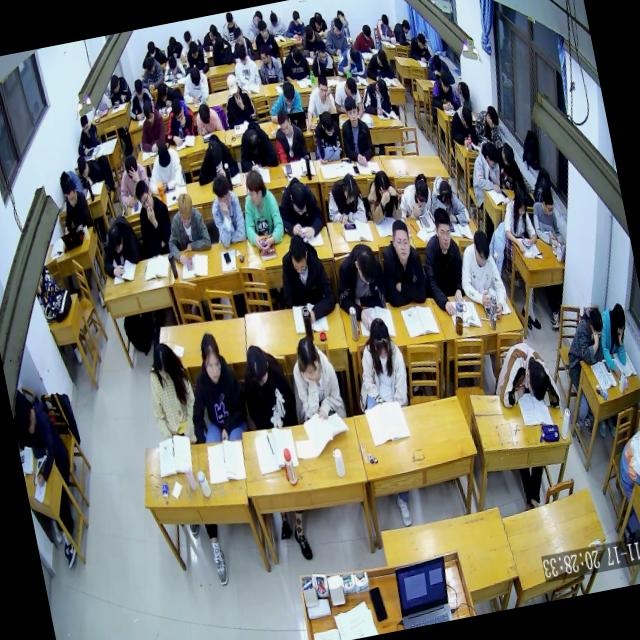bow: (487, 334, 563, 420), (94, 212, 148, 282), (274, 172, 326, 242), (190, 130, 241, 187), (232, 116, 280, 174), (426, 172, 470, 232), (396, 175, 436, 221), (334, 44, 368, 84), (190, 98, 223, 137), (363, 46, 396, 84), (76, 152, 108, 189), (425, 52, 456, 88), (150, 77, 177, 116), (208, 32, 235, 68)
down: (522, 356, 553, 404), (294, 333, 322, 384), (243, 342, 272, 390), (351, 242, 381, 288), (367, 316, 394, 361), (286, 234, 312, 276), (12, 398, 38, 436), (150, 342, 173, 384), (210, 173, 233, 211), (287, 180, 310, 217), (175, 192, 197, 230), (471, 229, 492, 267), (105, 223, 126, 256), (412, 175, 432, 208), (340, 172, 360, 204), (274, 107, 294, 138), (372, 169, 392, 200), (587, 307, 606, 339), (204, 137, 224, 167), (436, 177, 454, 210), (512, 185, 530, 218), (318, 108, 337, 139), (154, 139, 173, 169), (482, 140, 501, 170), (244, 125, 262, 156), (499, 140, 518, 168), (280, 79, 298, 108), (122, 152, 140, 179), (64, 178, 80, 208), (540, 190, 556, 218), (140, 98, 156, 125), (484, 105, 500, 132), (170, 96, 186, 122), (459, 105, 475, 130), (438, 68, 453, 94), (196, 102, 212, 125), (226, 73, 240, 99), (344, 76, 359, 100), (188, 66, 204, 88), (76, 154, 90, 178), (132, 78, 146, 102), (374, 78, 389, 100), (234, 42, 248, 65), (155, 82, 169, 104), (256, 17, 270, 39), (348, 46, 362, 68), (458, 80, 472, 102), (108, 73, 122, 94), (186, 39, 200, 60), (315, 38, 327, 62), (431, 54, 444, 76), (212, 34, 226, 54), (374, 48, 388, 68), (232, 26, 245, 47), (303, 22, 316, 43), (167, 56, 180, 76), (251, 8, 264, 28), (144, 53, 156, 74), (79, 115, 91, 135), (313, 10, 325, 30), (332, 16, 344, 36), (361, 22, 373, 42), (290, 46, 302, 66), (182, 29, 194, 48), (207, 24, 219, 42), (268, 11, 280, 29), (416, 32, 427, 51), (166, 34, 178, 51), (146, 38, 157, 56), (291, 10, 302, 28), (401, 18, 412, 36), (380, 12, 391, 30), (224, 12, 234, 28)
lookup: (198, 331, 225, 385), (388, 218, 414, 263), (431, 204, 455, 250), (133, 178, 155, 212), (343, 95, 360, 125), (316, 73, 331, 101)
sit: (176, 327, 252, 448), (140, 338, 203, 450), (413, 204, 472, 318), (272, 228, 338, 326), (234, 337, 300, 433), (326, 240, 392, 334), (350, 314, 412, 414), (12, 392, 74, 490), (285, 328, 346, 424), (370, 215, 430, 312), (452, 226, 510, 322), (234, 166, 288, 256), (159, 188, 214, 266), (130, 176, 177, 260), (558, 304, 612, 372), (205, 170, 250, 250), (595, 302, 637, 382), (334, 91, 376, 169), (496, 184, 540, 256), (321, 172, 368, 230), (141, 137, 187, 195), (464, 138, 506, 200), (54, 176, 96, 237), (362, 168, 404, 228), (268, 104, 309, 164), (218, 70, 258, 130), (112, 152, 154, 209), (528, 187, 566, 250), (299, 72, 339, 130), (308, 106, 346, 164), (611, 422, 640, 498), (133, 97, 170, 155), (159, 95, 199, 148), (264, 80, 306, 126), (442, 286, 482, 332), (494, 140, 526, 194), (426, 67, 460, 116), (330, 74, 364, 122), (445, 104, 480, 150), (472, 104, 505, 152), (122, 75, 156, 121), (230, 41, 262, 89), (306, 34, 338, 80), (358, 77, 393, 117), (178, 65, 212, 106), (255, 42, 285, 88), (252, 17, 282, 62), (71, 111, 101, 155), (294, 20, 326, 61), (279, 43, 311, 83), (320, 14, 349, 56), (181, 37, 211, 77), (226, 24, 256, 64), (136, 52, 166, 91), (138, 38, 168, 70), (349, 22, 377, 56), (106, 69, 132, 105), (372, 12, 397, 48), (281, 8, 307, 42), (244, 9, 268, 44), (219, 12, 241, 49), (408, 32, 433, 64), (450, 78, 472, 112), (264, 7, 288, 38), (307, 7, 330, 39), (391, 16, 414, 48), (163, 34, 185, 61)
